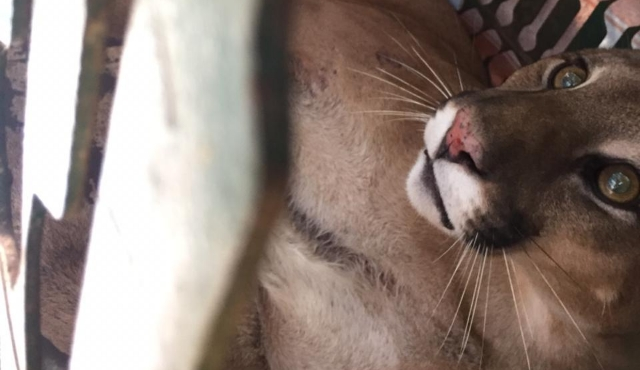OncaParda: (316, 7, 636, 365)
